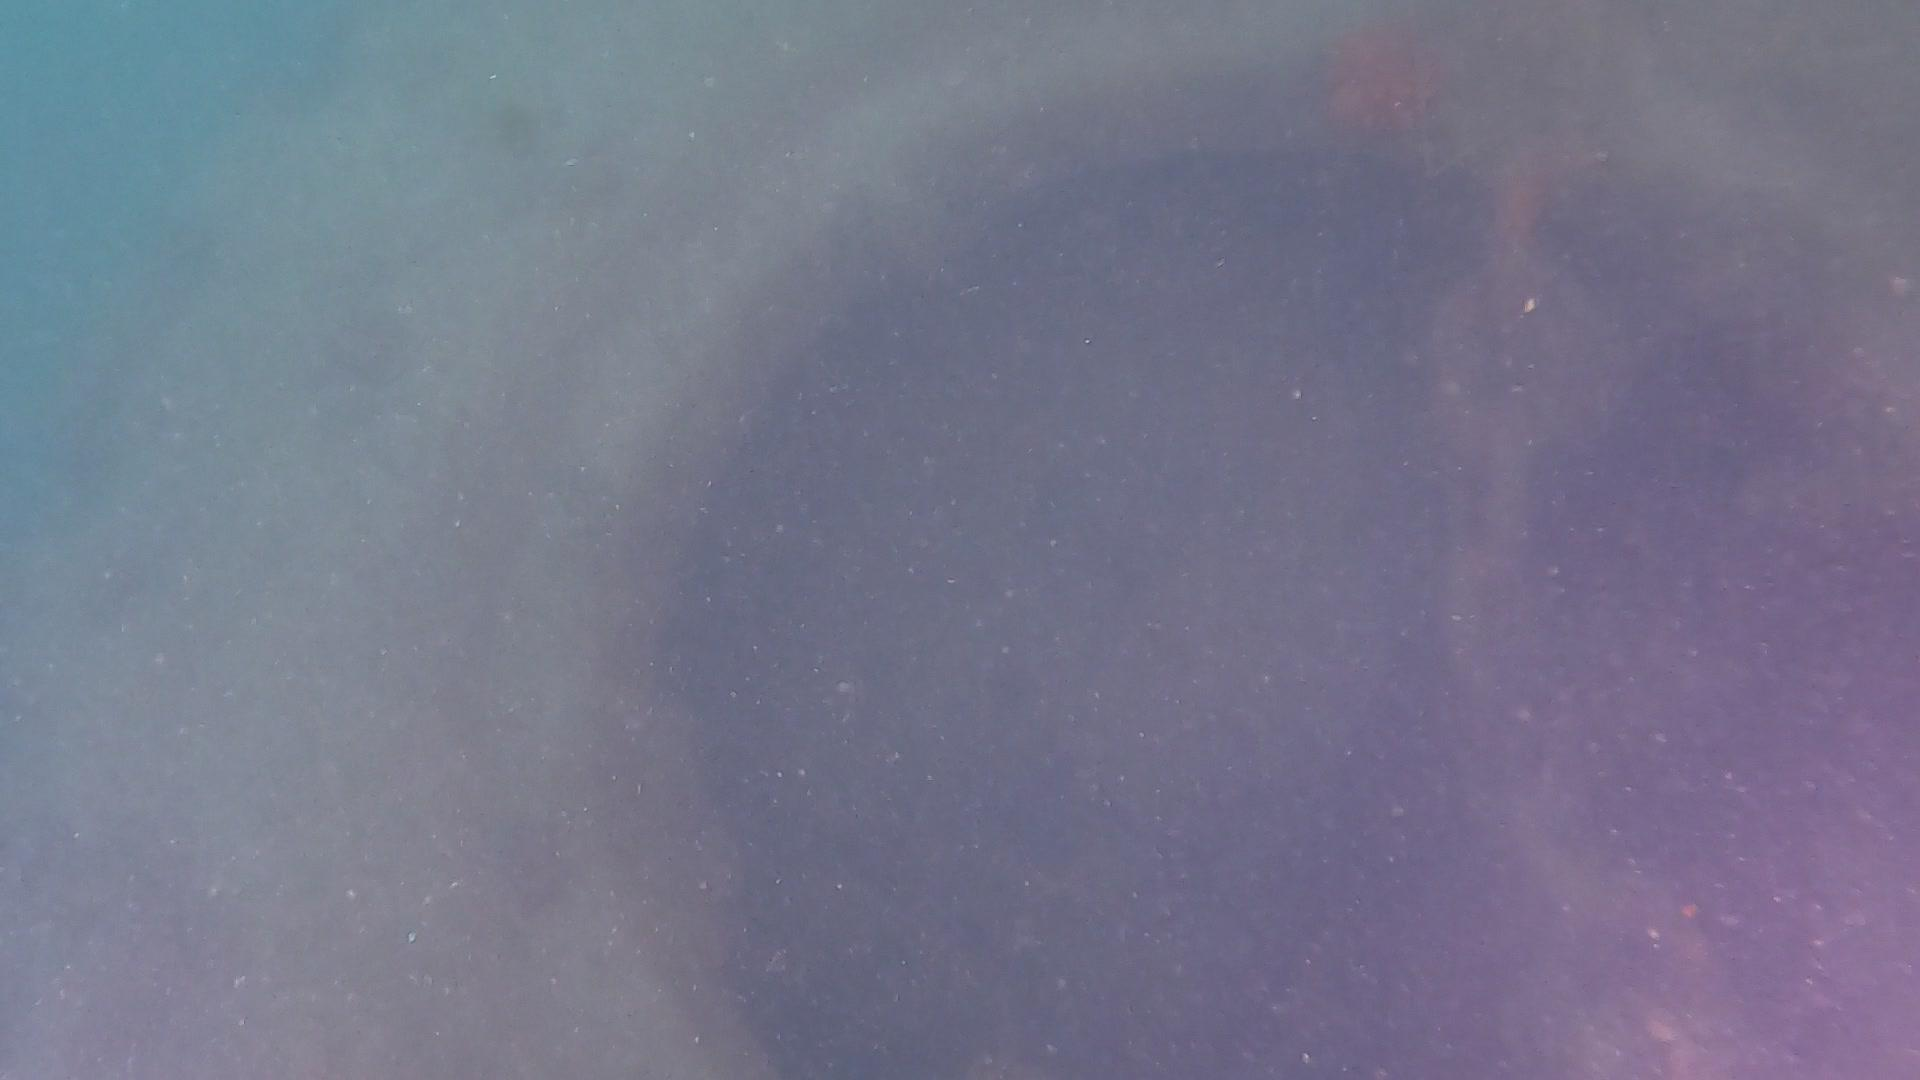tire: (0, 0, 1920, 1080)
